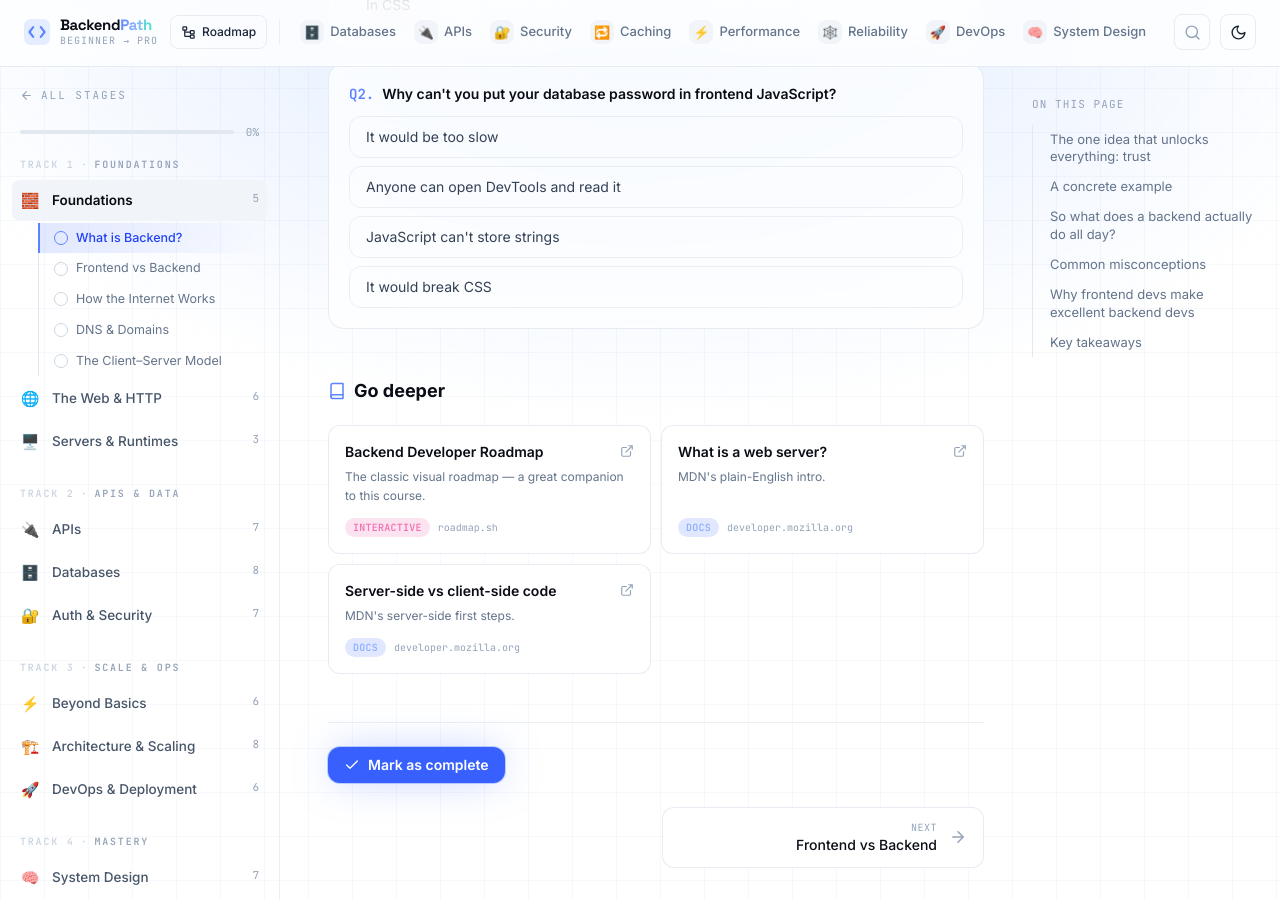
it: app smoke › opens a lesson, renders its markdown, and marks it complete
The image size is (1280, 900).
(page scrolled)
expect the heading "Go deeper" is shown: met, box [354,377,445,405]
expect the link "Backend Developer Roadmap" is shown: met, box [328,425,651,554]
progress starts empty, then marking complete persists
Click the button "Mark as complete": (416, 765) [328,747,504,783]
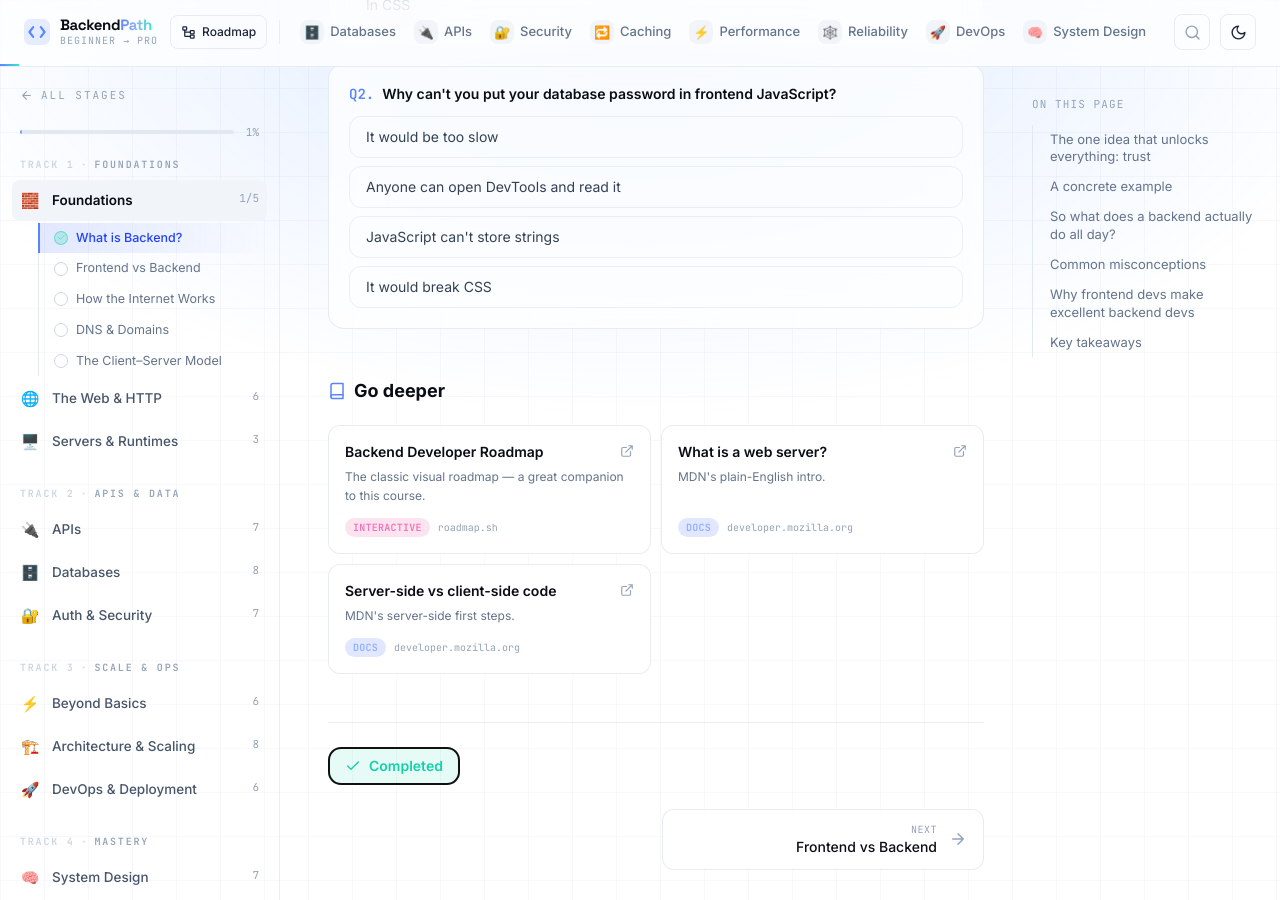
expect the button "Completed" is shown: met, box [328,747,460,785]
